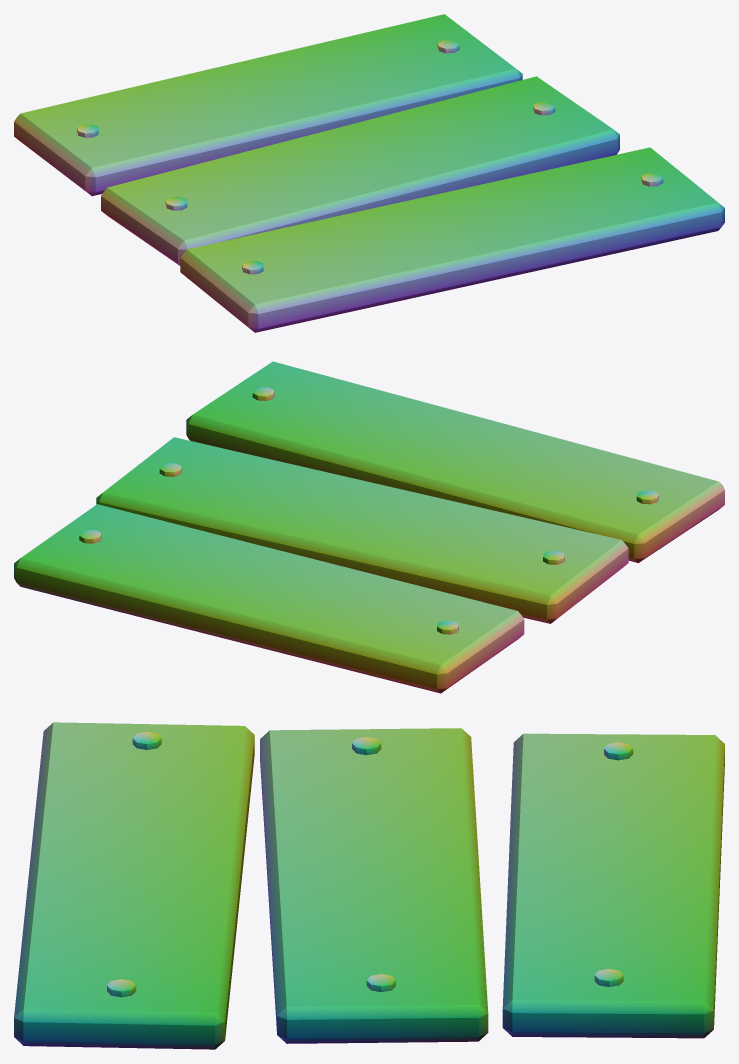
File: tile_wood.fbx
The picture shows the model from 3 angles, top to bottom: view 1: azimuth 30°, elevation 25°; view 2: azimuth 150°, elevation 25°; view 3: azimuth 270°, elevation 25°; orthographic projection. The views are drawn at different scales.
Visible parts, largest first — view 1: tile_wood; view 2: tile_wood; view 3: tile_wood.
Part boxes in pixels (box(x1,y1,x2,y2)): tile_wood: box(14, 14, 724, 332); tile_wood: box(14, 361, 724, 693); tile_wood: box(14, 722, 724, 1049).
Size of the model in its own units: 0.8695 by 0.058 by 0.8749.
